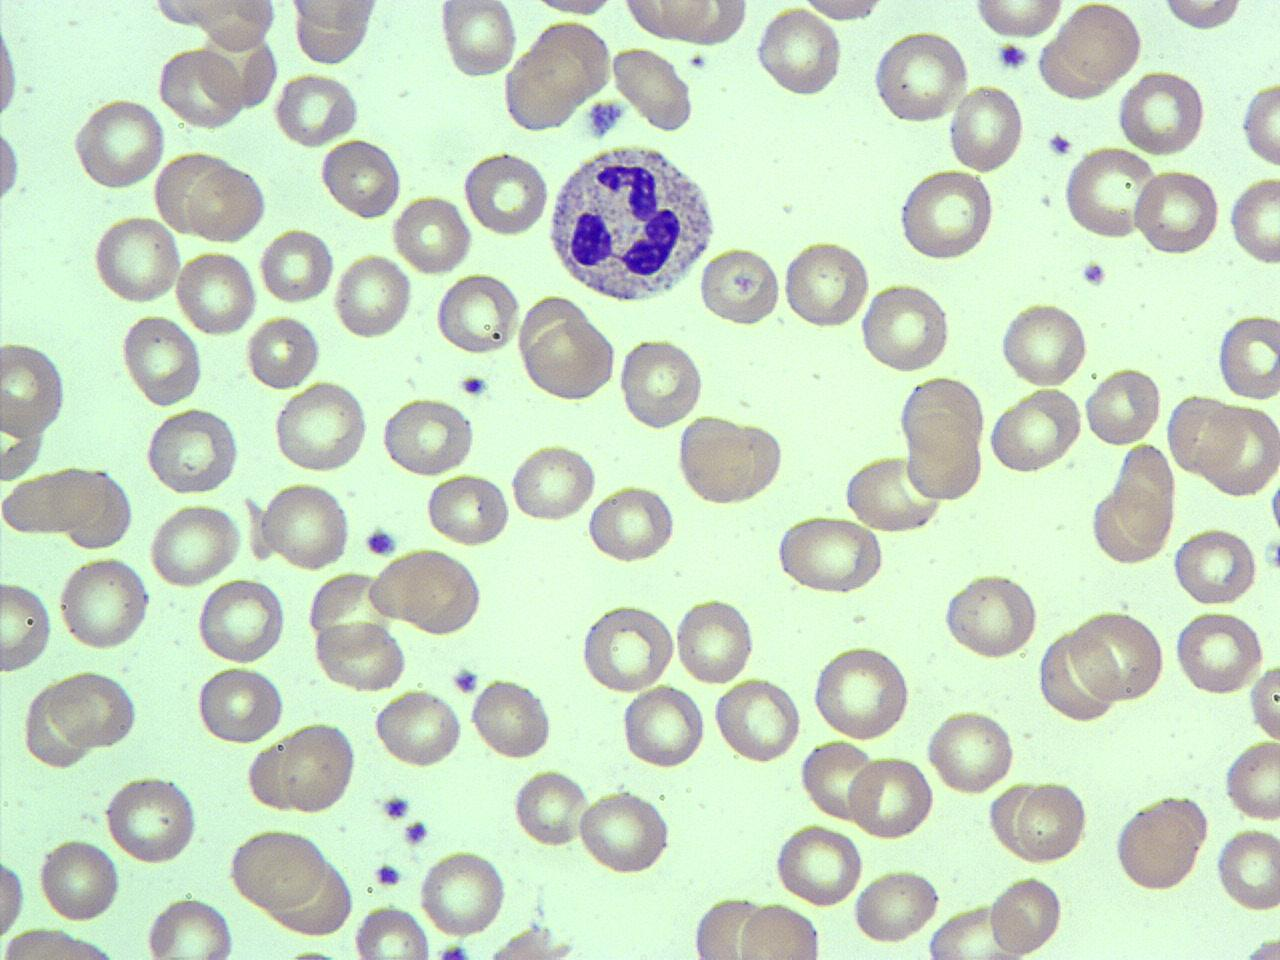Platelets: (583, 96, 627, 143), (983, 23, 1044, 55), (360, 525, 400, 560), (994, 41, 1029, 71), (377, 792, 413, 820), (449, 663, 480, 695), (1260, 532, 1280, 578), (401, 820, 432, 849), (1078, 258, 1108, 288), (1045, 131, 1075, 159), (372, 862, 404, 888), (457, 373, 490, 398), (434, 940, 470, 960), (688, 51, 706, 68)
RBC: (504, 20, 612, 132), (674, 410, 786, 508), (366, 546, 486, 636), (810, 642, 914, 742), (1110, 793, 1210, 894), (895, 166, 998, 262), (870, 28, 970, 126), (55, 552, 152, 652), (772, 514, 888, 598), (1070, 607, 1168, 706), (1061, 145, 1157, 244), (102, 772, 201, 868), (69, 97, 169, 191), (271, 378, 370, 473), (577, 602, 678, 694), (752, 4, 846, 102), (941, 568, 1039, 662), (616, 333, 706, 434), (225, 826, 330, 912), (858, 281, 954, 374), (841, 450, 945, 534), (256, 480, 353, 572), (144, 405, 242, 496), (985, 386, 1083, 476), (781, 236, 873, 332), (521, 315, 618, 405), (575, 788, 673, 877), (90, 215, 182, 307), (146, 500, 243, 588), (924, 706, 1018, 796), (1132, 166, 1222, 260), (1172, 608, 1268, 696), (713, 674, 802, 766), (271, 720, 359, 815), (119, 312, 205, 408), (417, 848, 509, 938), (194, 576, 287, 664), (900, 407, 986, 503), (380, 394, 478, 478), (1036, 624, 1118, 724), (848, 751, 936, 843), (1115, 70, 1207, 157), (1198, 399, 1280, 498), (998, 301, 1089, 389), (174, 246, 260, 340), (462, 149, 551, 238), (154, 44, 246, 131), (372, 686, 465, 771), (673, 593, 757, 688), (468, 674, 556, 762), (620, 682, 707, 772), (772, 822, 864, 908), (191, 664, 286, 746), (433, 270, 523, 357), (48, 666, 140, 750), (850, 864, 942, 948), (586, 482, 678, 566), (331, 249, 414, 342), (946, 80, 1026, 176), (1170, 523, 1260, 609), (0, 466, 107, 537), (36, 836, 123, 924), (508, 440, 596, 524), (318, 135, 404, 221), (1057, 1, 1145, 85), (610, 46, 694, 132), (697, 245, 783, 330), (273, 69, 363, 147), (1087, 484, 1173, 566), (304, 568, 391, 648), (1083, 362, 1163, 450), (313, 618, 408, 692), (1012, 776, 1090, 866), (986, 872, 1066, 958), (0, 336, 68, 438), (390, 193, 473, 274), (187, 162, 269, 245), (242, 311, 324, 393), (922, 901, 1034, 960), (798, 738, 878, 820), (436, 0, 518, 80), (143, 891, 238, 960), (511, 766, 590, 848), (424, 472, 509, 548), (258, 225, 336, 306), (1215, 310, 1279, 402), (1213, 824, 1279, 914), (0, 574, 55, 676), (614, 1, 738, 46), (735, 899, 825, 960), (1226, 174, 1280, 268), (1222, 736, 1280, 822), (0, 924, 133, 960), (350, 902, 433, 958), (1238, 75, 1280, 175), (970, 0, 1068, 39), (283, 0, 383, 35), (1246, 659, 1280, 746), (1159, 0, 1247, 33), (0, 850, 27, 946), (794, 0, 896, 25), (0, 8, 20, 130), (524, 0, 628, 21), (0, 118, 22, 211)
WBC: (542, 137, 722, 310)
